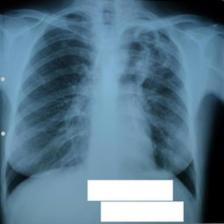tuberculosis: (1, 9, 202, 209)
